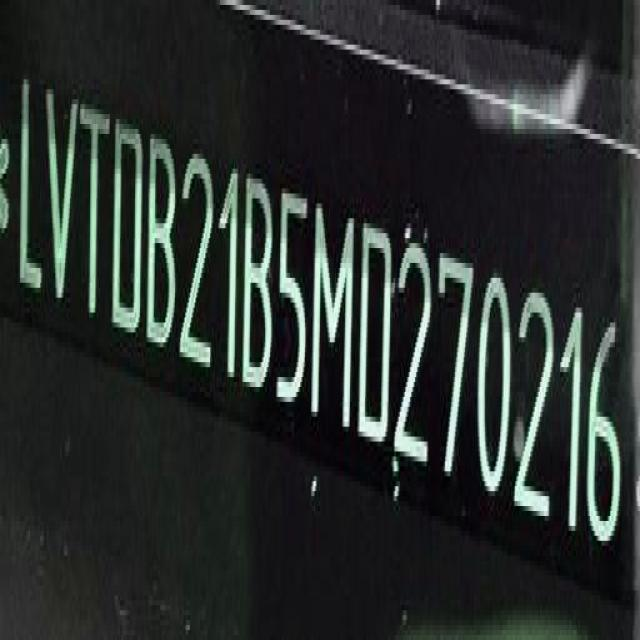0: (477, 263, 511, 498)
1: (559, 300, 584, 531), (220, 160, 240, 384)
2: (514, 285, 553, 518), (395, 241, 431, 472), (179, 149, 212, 371)
5: (277, 184, 306, 408)
6: (588, 316, 624, 553)
7: (436, 248, 474, 493)
B: (145, 134, 177, 351), (242, 178, 272, 390)
D: (357, 213, 393, 443), (110, 116, 142, 334)
L: (17, 72, 44, 296)
M: (312, 200, 357, 427)
T: (78, 86, 110, 329)
V: (46, 81, 78, 314)
